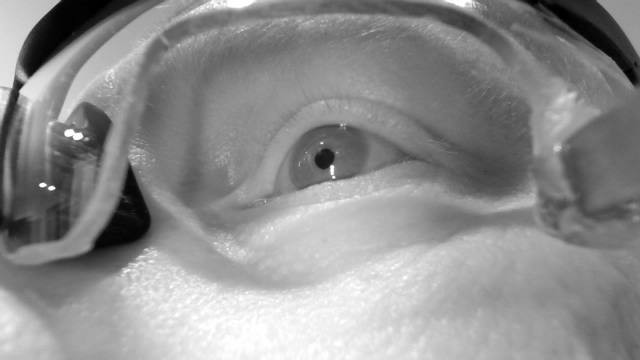pupil: (314, 148, 336, 170)
